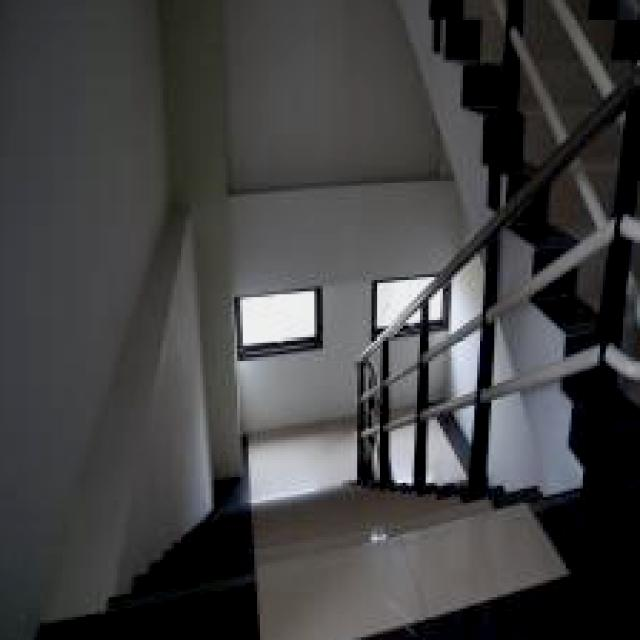downstair: (164, 501, 581, 640)
